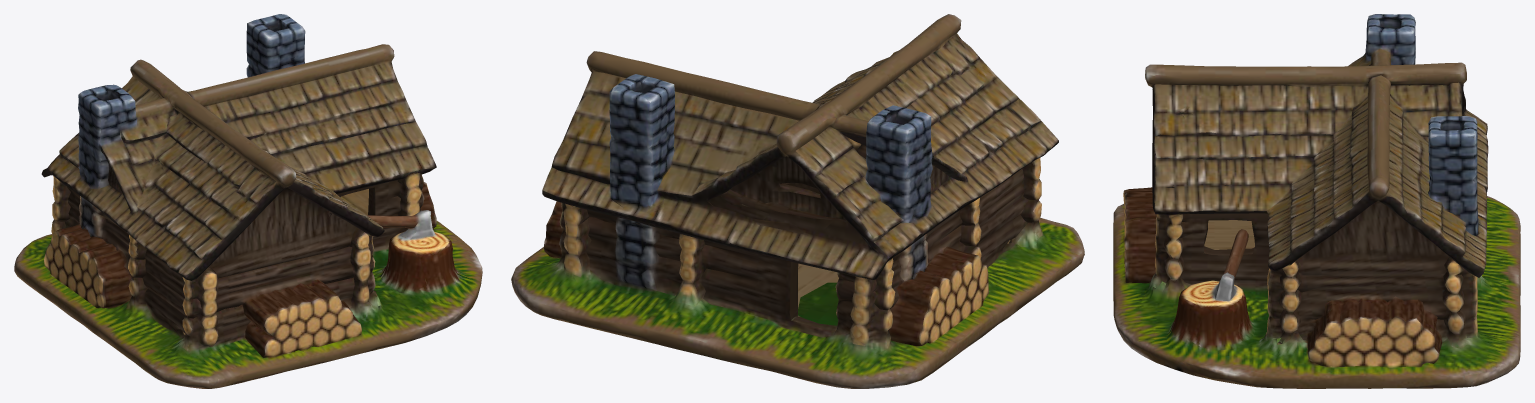
Rendered from village_forest_a.glb.
3 views of the same model, side by side, from view 1: azimuth 30°, elevation 25°; view 2: azimuth 150°, elevation 25°; view 3: azimuth 270°, elevation 25° (orthographic). The views are drawn at different scales.
Visible parts, largest first — view 1: world; view 2: world; view 3: world.
Part boxes in pixels (x1,y1,x2,y2): world: (14, 14, 482, 388); world: (511, 14, 1084, 388); world: (1113, 14, 1520, 388).
Bounding box in the file's own units: 1 × 0.5193 × 0.915.
Materials: 1 (1 with a texture image).
